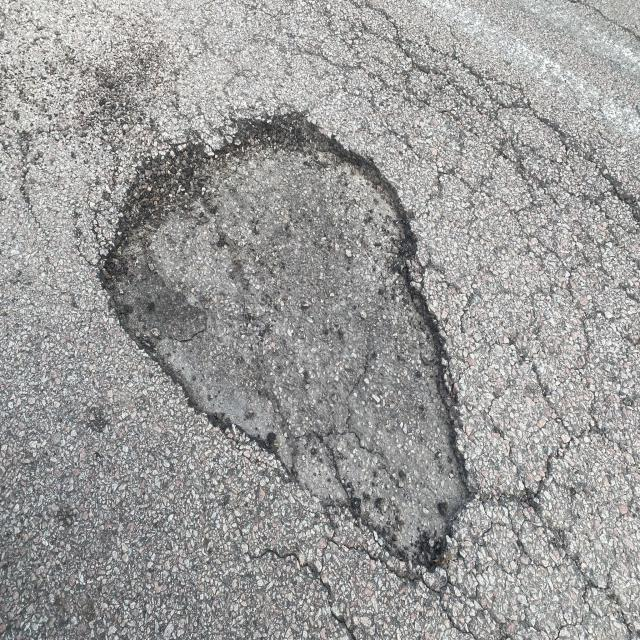pothole: (61, 70, 557, 634)
